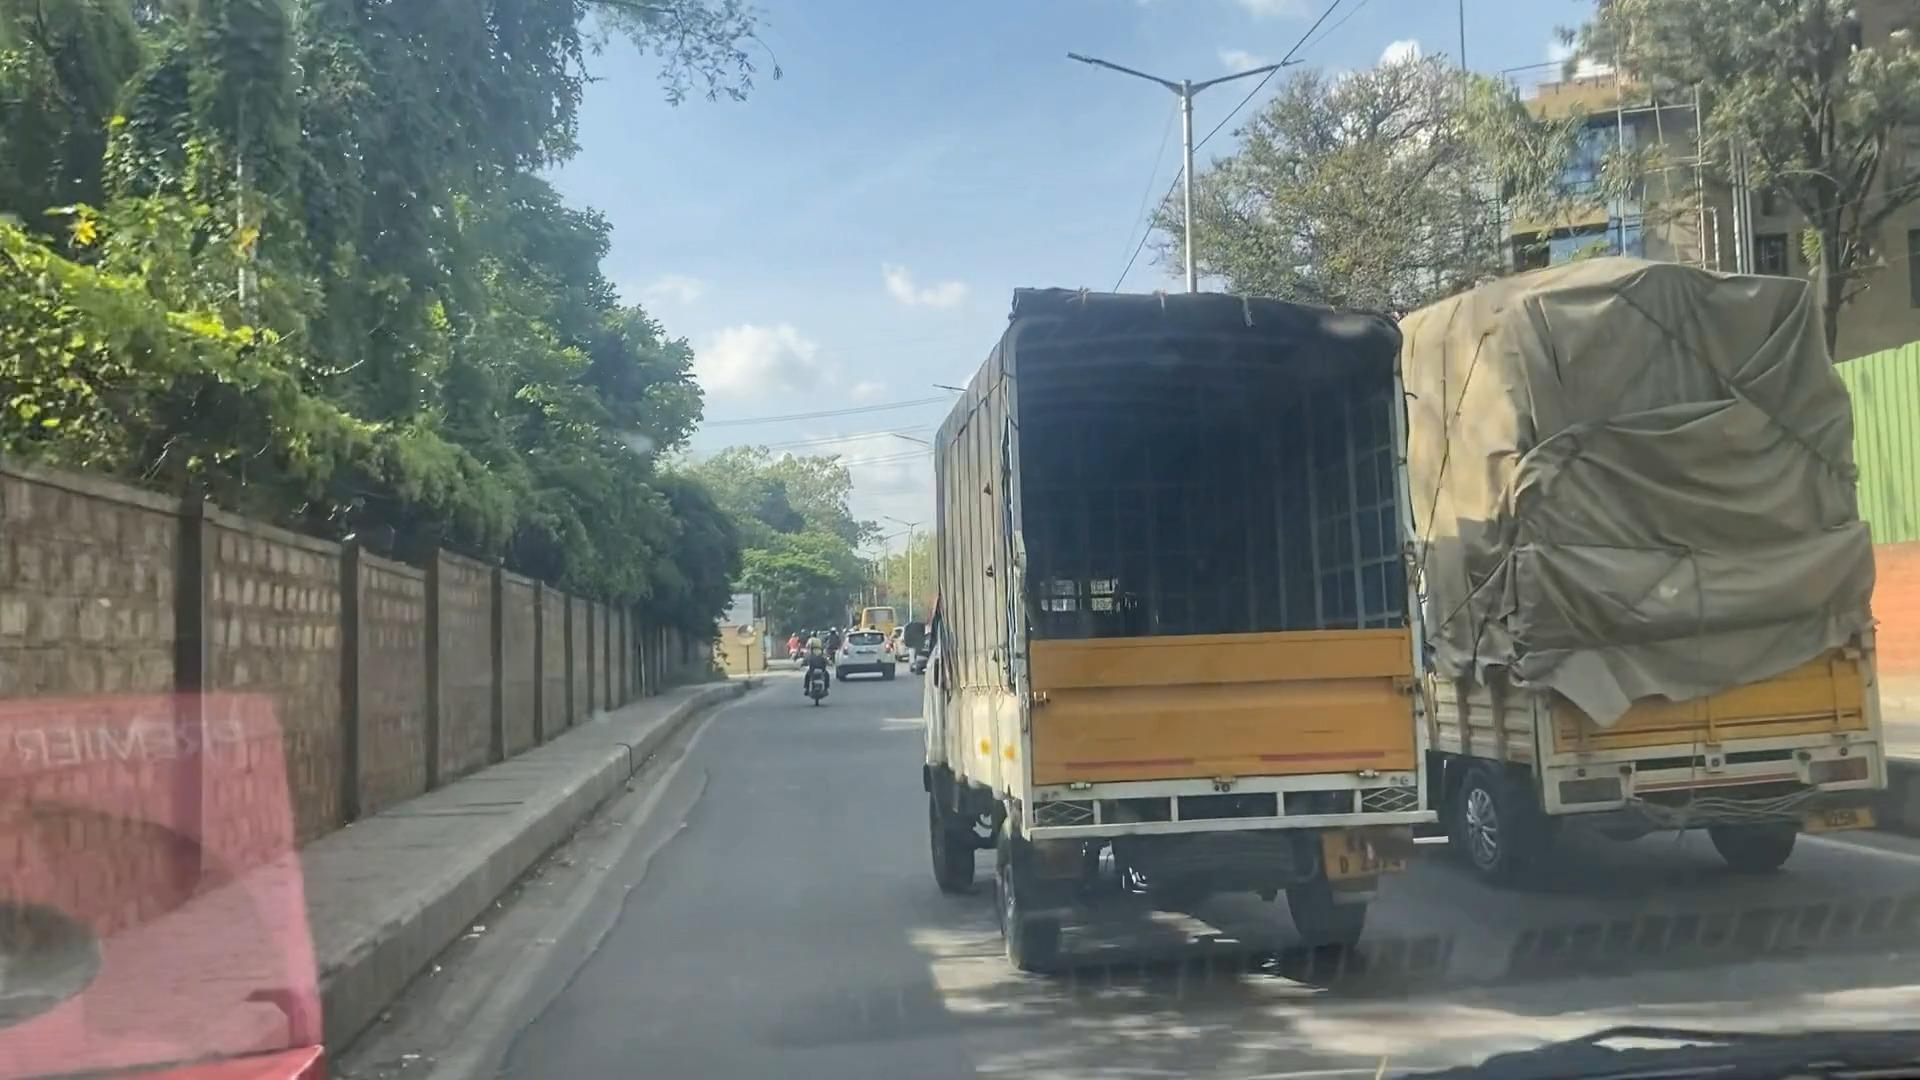HMV: (909, 206, 1472, 1005), (1411, 220, 1894, 902)
